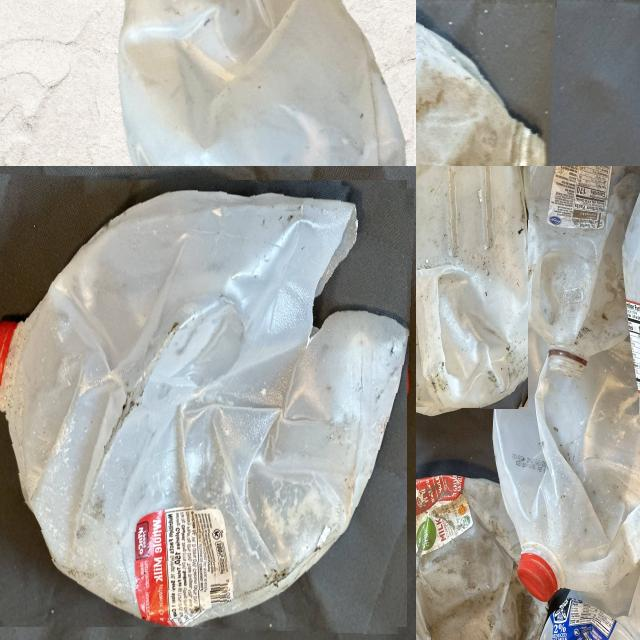milk-jug: (0, 176, 410, 630), (96, 0, 416, 166), (491, 369, 640, 602), (510, 166, 640, 381), (416, 166, 531, 408), (416, 0, 553, 166), (416, 471, 548, 640)
